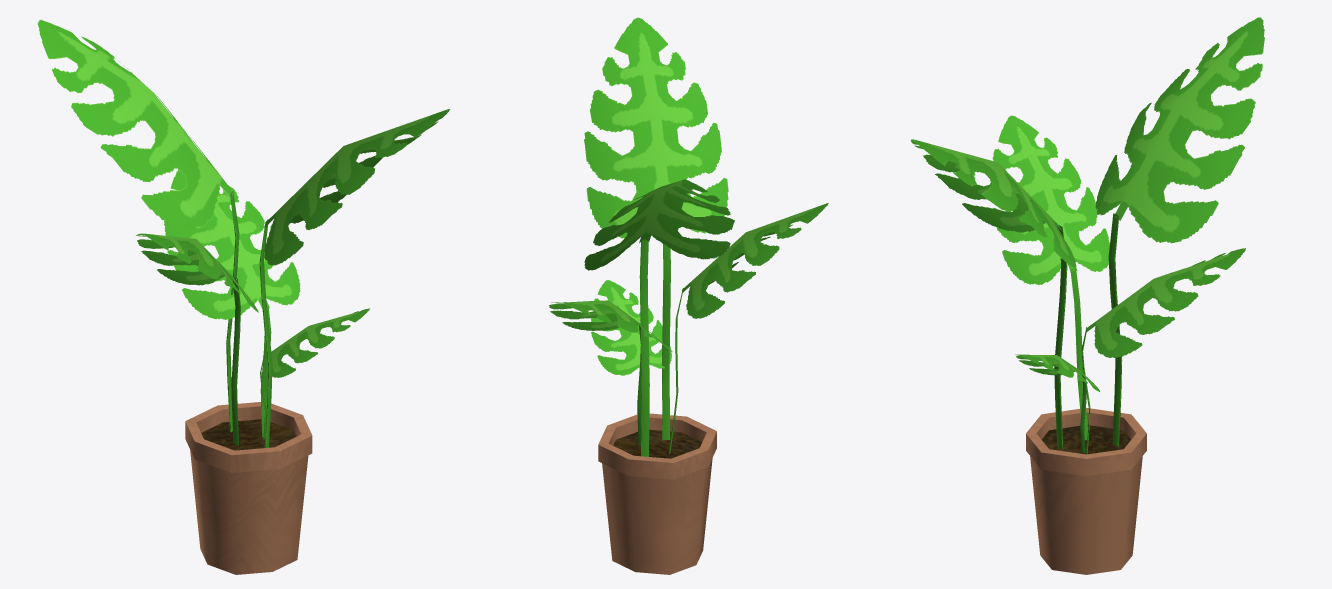
Rendered from Pot plant.fbx.
The picture shows the model from 3 angles, left to right: view 1: azimuth 30°, elevation 25°; view 2: azimuth 150°, elevation 25°; view 3: azimuth 270°, elevation 25°; orthographic projection. The views are drawn at different scales.
Visible parts, largest first — view 1: pPlane8; view 2: pPlane8; view 3: pPlane8.
Part boxes in pixels (x1=…): pPlane8: x1=37, y1=19, x2=450, y2=574; pPlane8: x1=549, y1=17, x2=828, y2=574; pPlane8: x1=910, y1=17, x2=1264, y2=574.
Bounding box in the file's own units: 3.37 × 4.7 × 4.01.
1 material, 1 textured.
